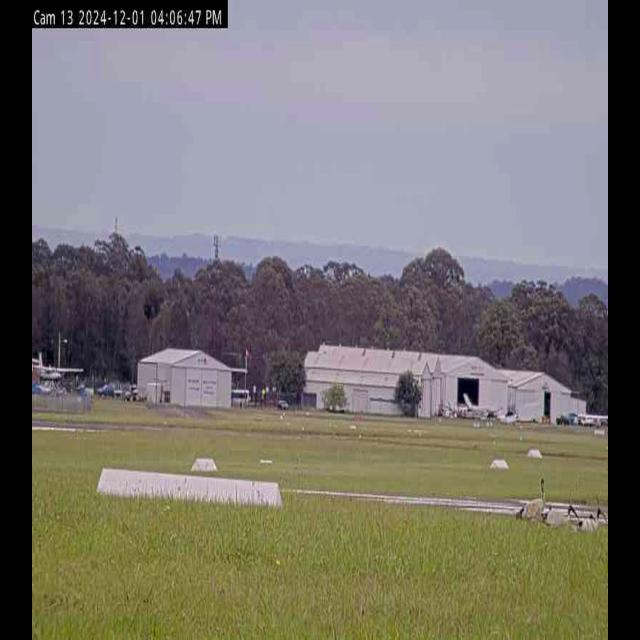Birds-Ibis: (513, 473, 546, 527), (542, 499, 580, 532), (579, 502, 607, 537)
